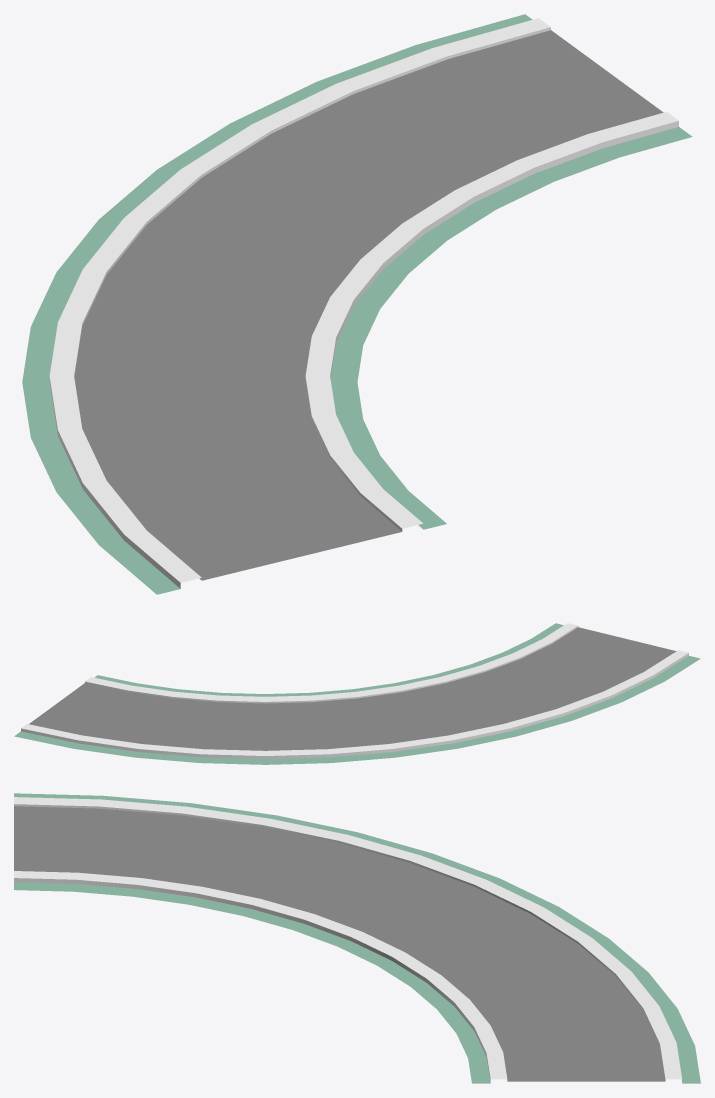
File: roadCornerLarger.glb
3 views of the same model, one above another, from view 1: azimuth 30°, elevation 25°; view 2: azimuth 150°, elevation 25°; view 3: azimuth 270°, elevation 25° (orthographic). The views are drawn at different scales.
Visible parts, largest first — view 1: roadCornerLarger(Clone); view 2: roadCornerLarger(Clone); view 3: roadCornerLarger(Clone).
Part boxes in pixels (x1,y1,x2,y2): roadCornerLarger(Clone): (22, 14, 692, 594); roadCornerLarger(Clone): (14, 623, 700, 764); roadCornerLarger(Clone): (14, 793, 700, 1083).
Size of the model in its own units: 3 by 0.0201 by 3.
